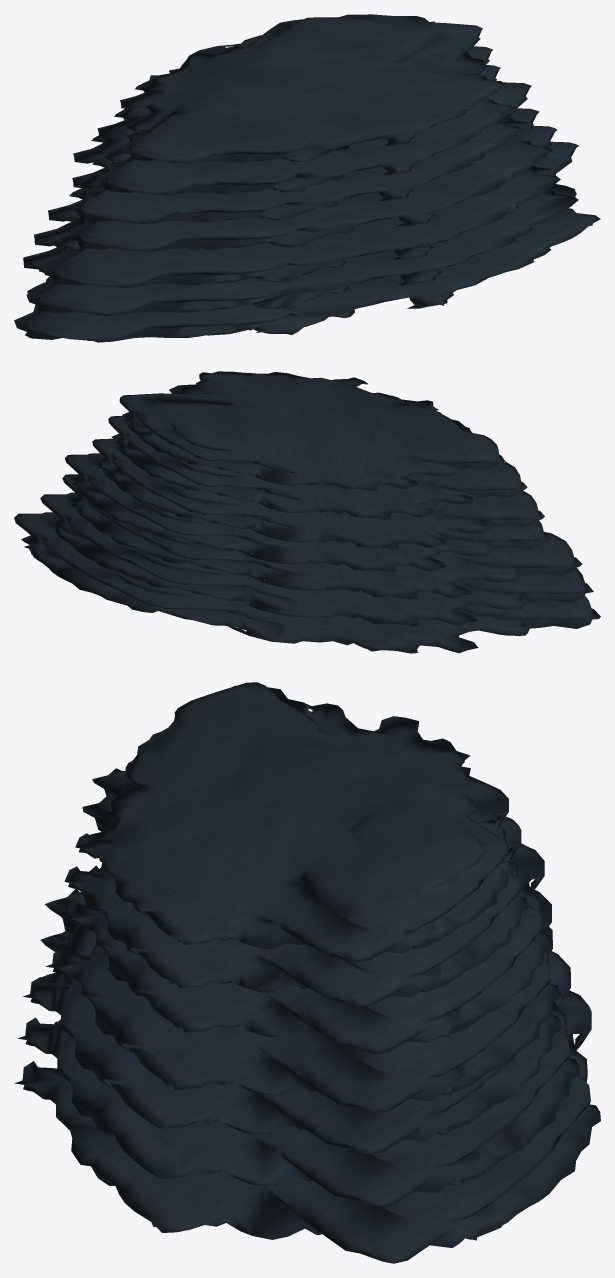
File: slate-v1-full-lod0.gltf
3 views of the same model, one above another, from view 1: azimuth 30°, elevation 25°; view 2: azimuth 150°, elevation 25°; view 3: azimuth 270°, elevation 25° (orthographic). The views are drawn at different scales.
Visible parts, largest first — view 1: slate-v1-full-lod0; view 2: slate-v1-full-lod0; view 3: slate-v1-full-lod0.
Boxes of the visible parts, x1,y1,x2,y2 form: slate-v1-full-lod0: (14, 14, 600, 342); slate-v1-full-lod0: (14, 371, 600, 653); slate-v1-full-lod0: (14, 682, 600, 1263).
Size of the model in its own units: 1.96 by 0.5294 by 1.11.
1 material, 1 textured.
